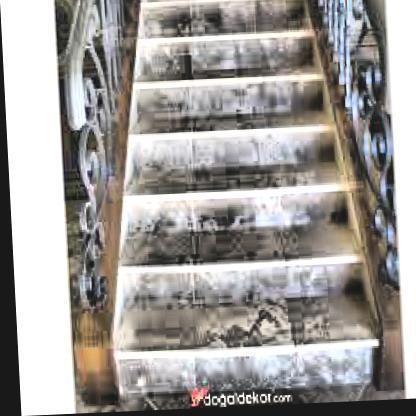stair: (126, 0, 371, 400)
